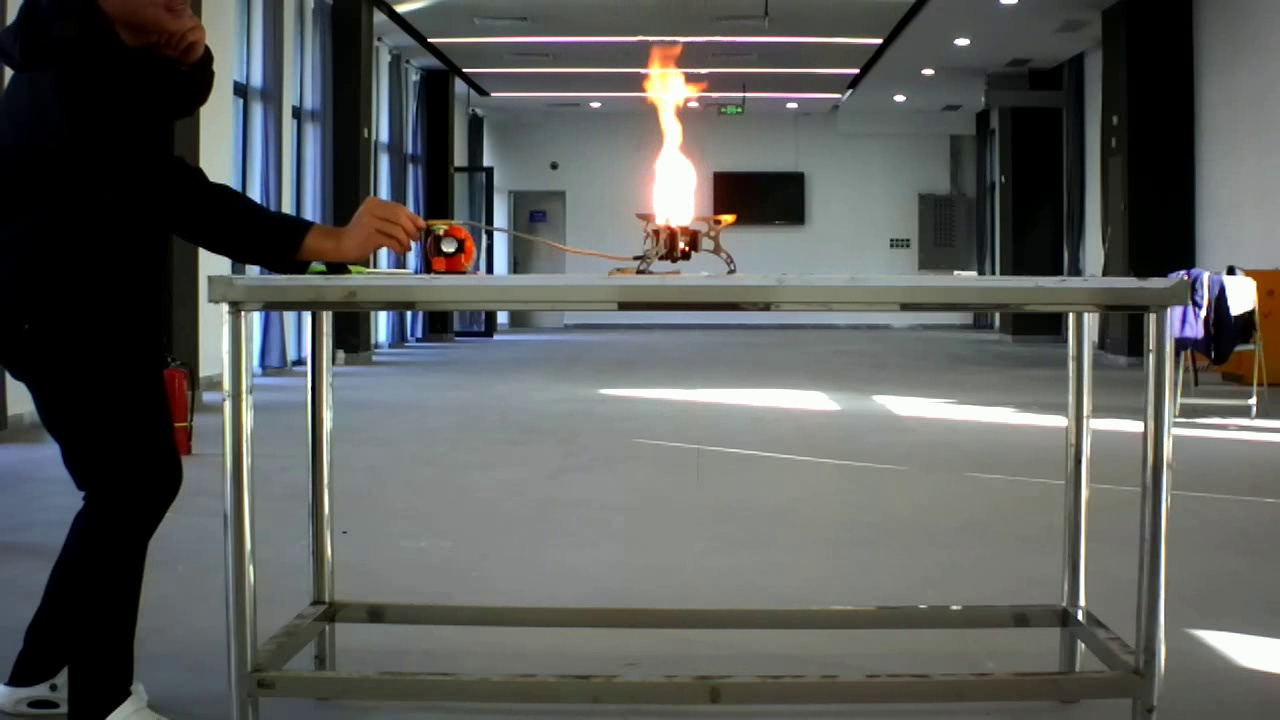Fire: (616, 40, 741, 266)
